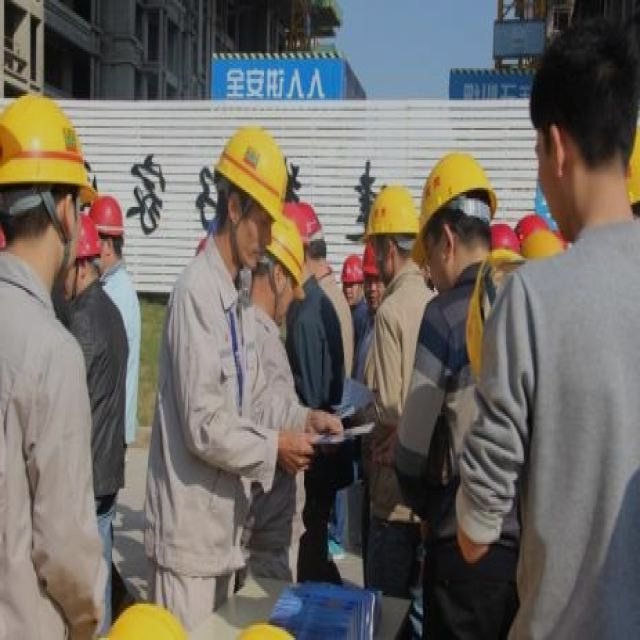Sin_Casco_Mascarrilla: (526, 17, 638, 224)
Sin_Chaleco: (458, 219, 640, 640)
